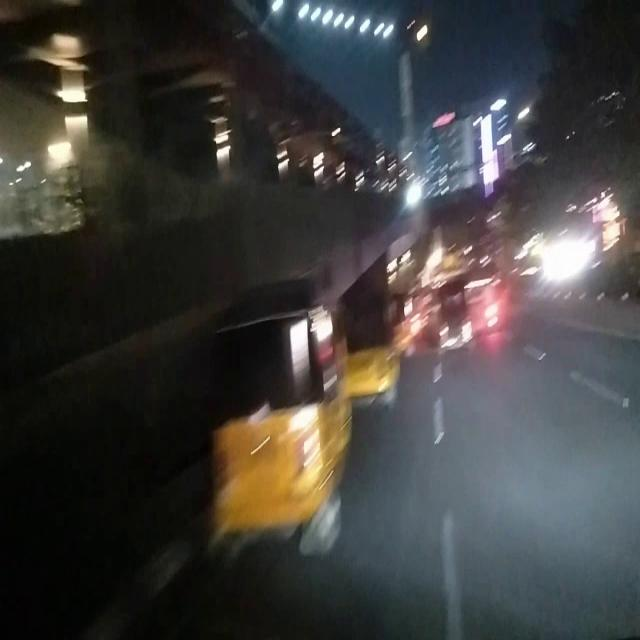auto: (205, 298, 356, 569), (346, 281, 408, 415)
road: (355, 351, 640, 640), (174, 566, 354, 640)
